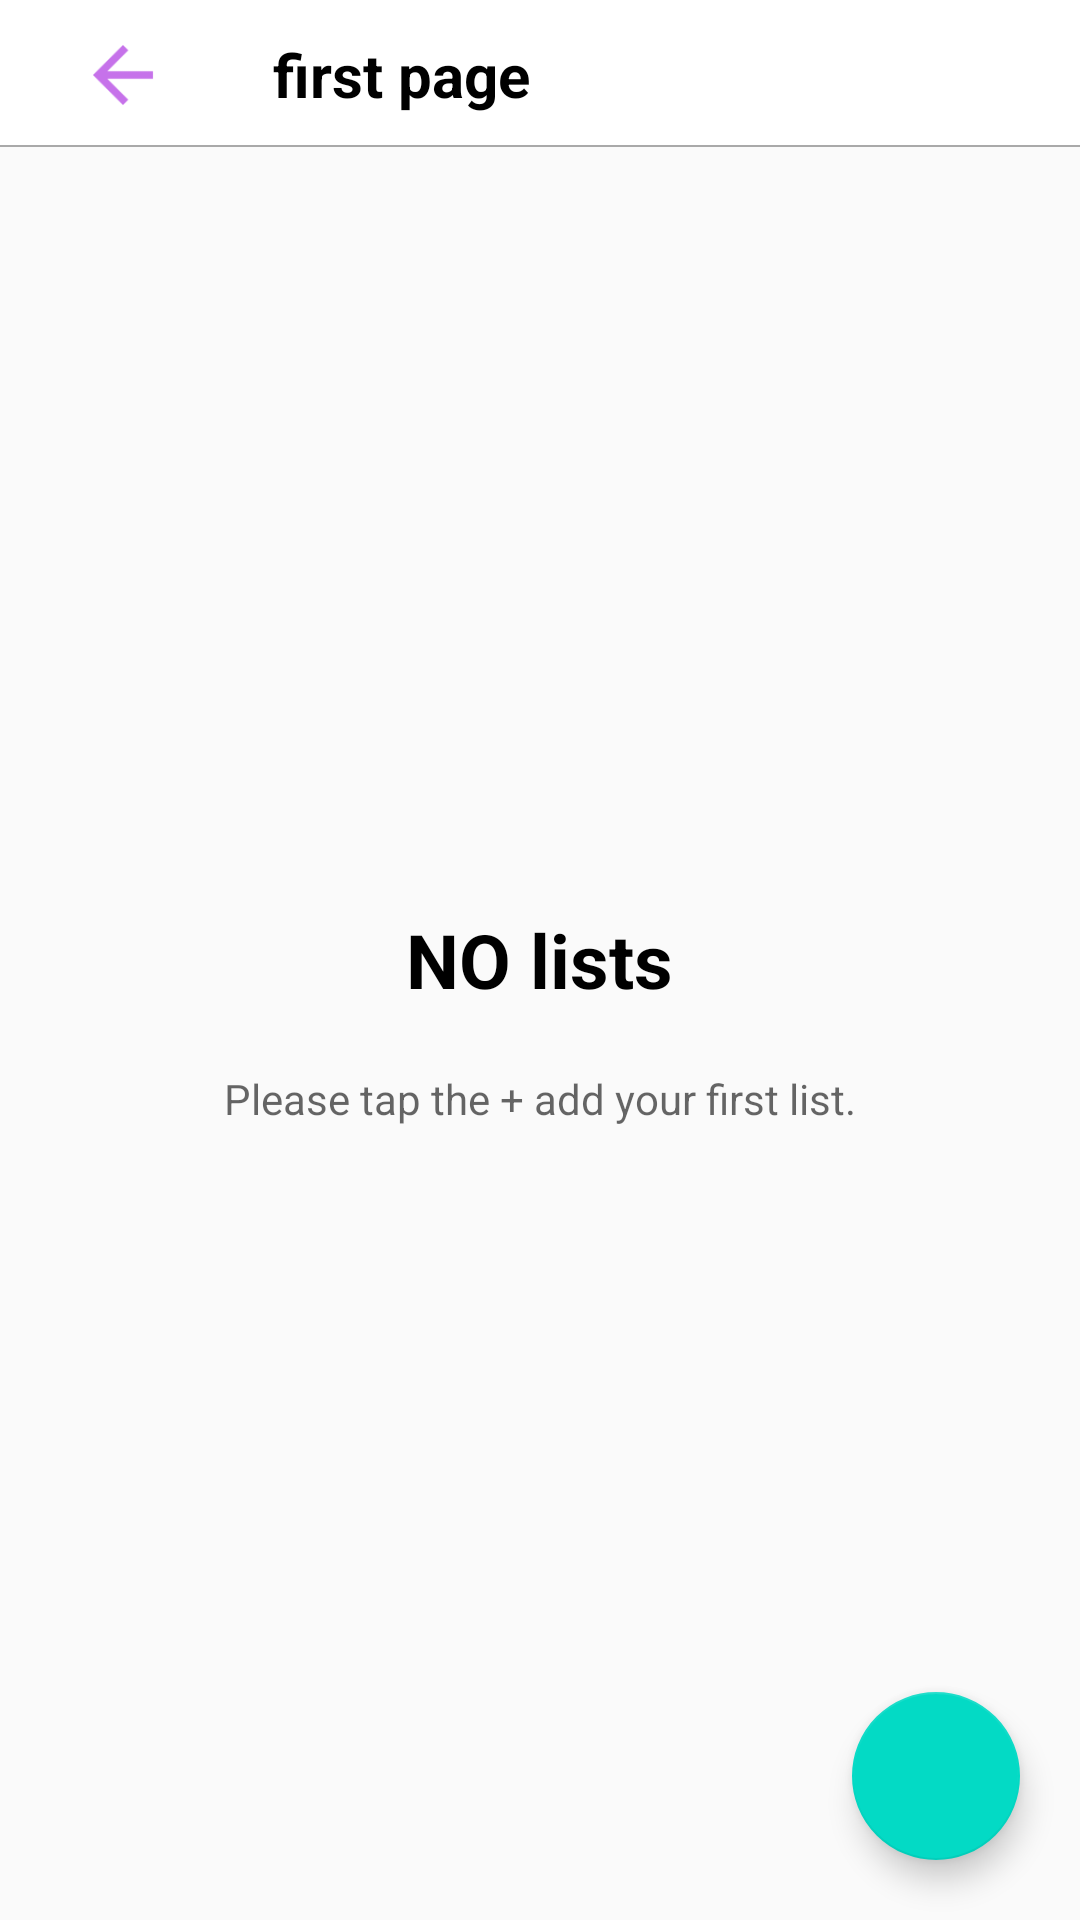

Screen size 1080×1920. Icon name, then its center in pixels as (x,y):
arrow: (123,75)
